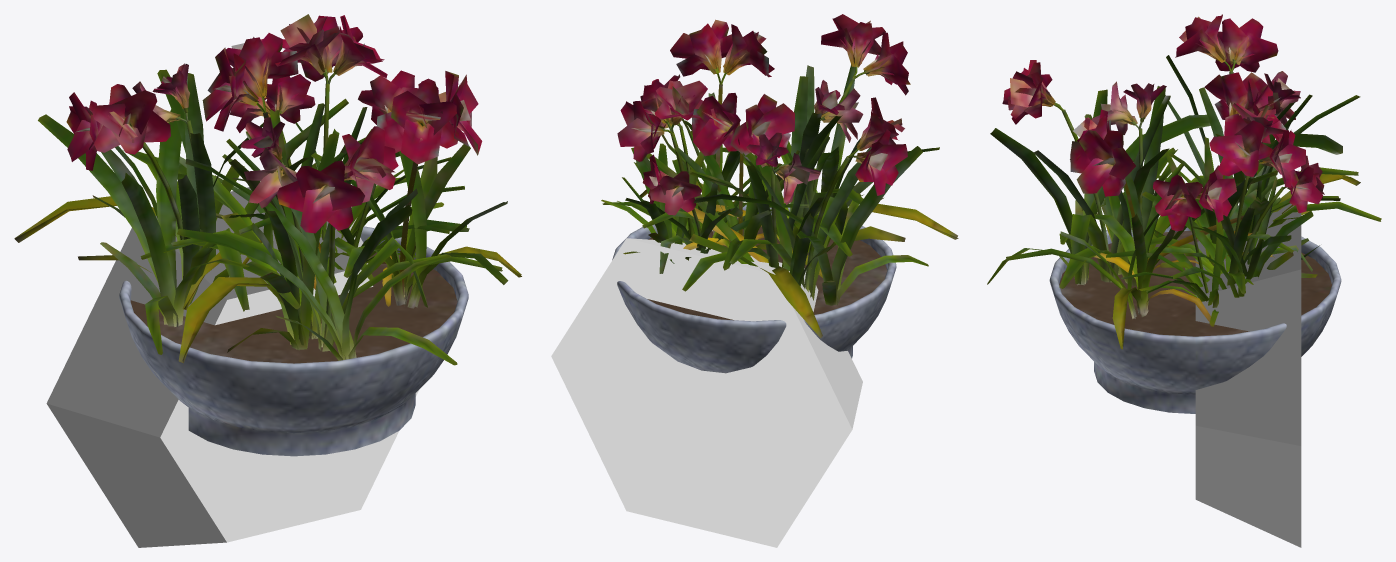
File: SM_Flowerpot_02.fbx
3 views of the same model, side by side, from view 1: azimuth 30°, elevation 25°; view 2: azimuth 150°, elevation 25°; view 3: azimuth 270°, elevation 25° (orthographic). The views are drawn at different scales.
Visible parts, largest first — view 1: SM_Flowerpot_02_LOD0, SM_Flowerpot_02_ConvexHulls; view 2: SM_Flowerpot_02_LOD0, SM_Flowerpot_02_ConvexHulls; view 3: SM_Flowerpot_02_LOD0, SM_Flowerpot_02_ConvexHulls.
Boxes of the visible parts, x1,y1,x2,y2 form: SM_Flowerpot_02_LOD0: (14,14,521,456); SM_Flowerpot_02_ConvexHulls: (46,187,419,547); SM_Flowerpot_02_LOD0: (601,14,958,373); SM_Flowerpot_02_ConvexHulls: (551,238,862,547); SM_Flowerpot_02_LOD0: (987,14,1381,413); SM_Flowerpot_02_ConvexHulls: (1195,203,1301,547).
Size of the model in its own units: 46.32 by 49.76 by 60.2.
